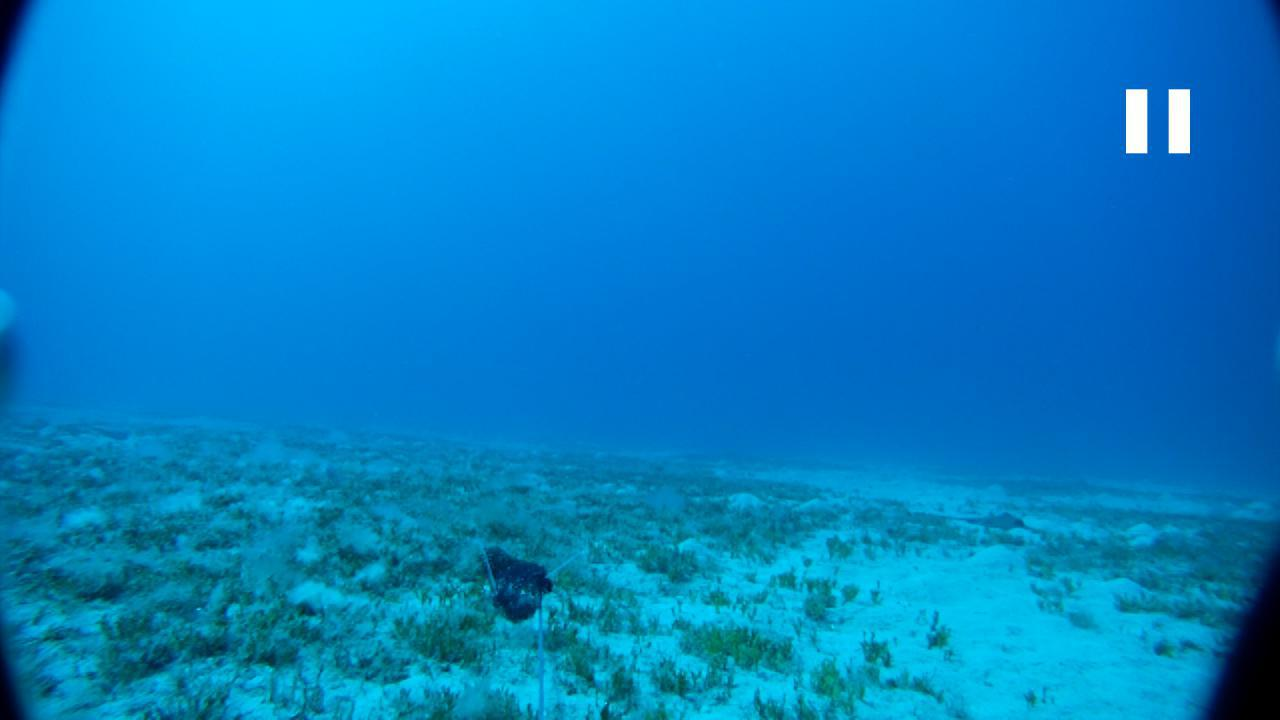dasyatis: (933, 511, 1031, 530)
